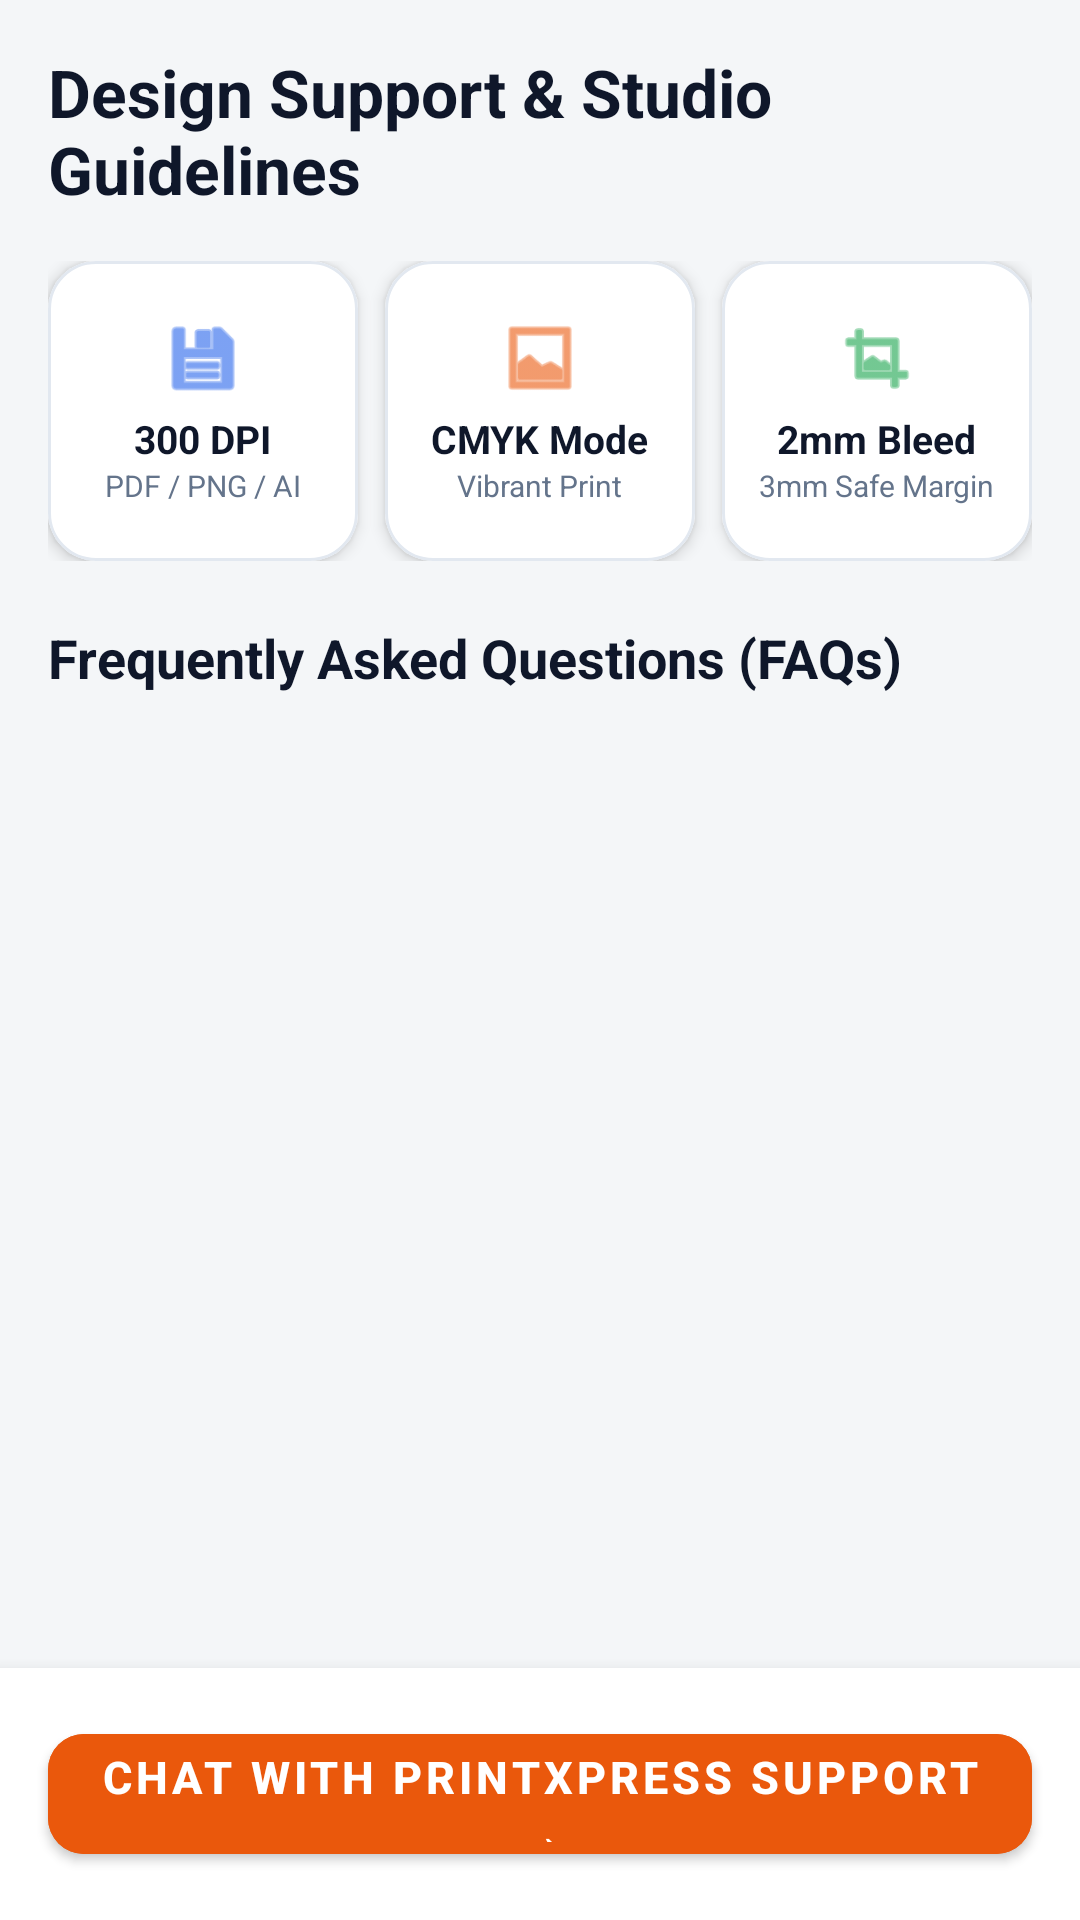

Screen size 1080x1920. Icon name, then its center in pixels as point (x, y):
File Specs: point (203, 358)
Margins: point (877, 358)
